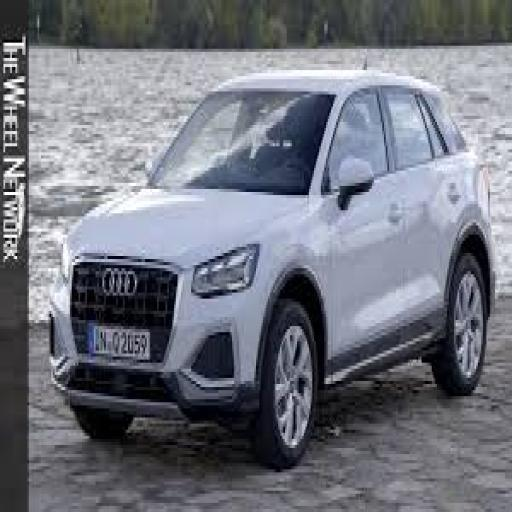car: (46, 52, 504, 469)
